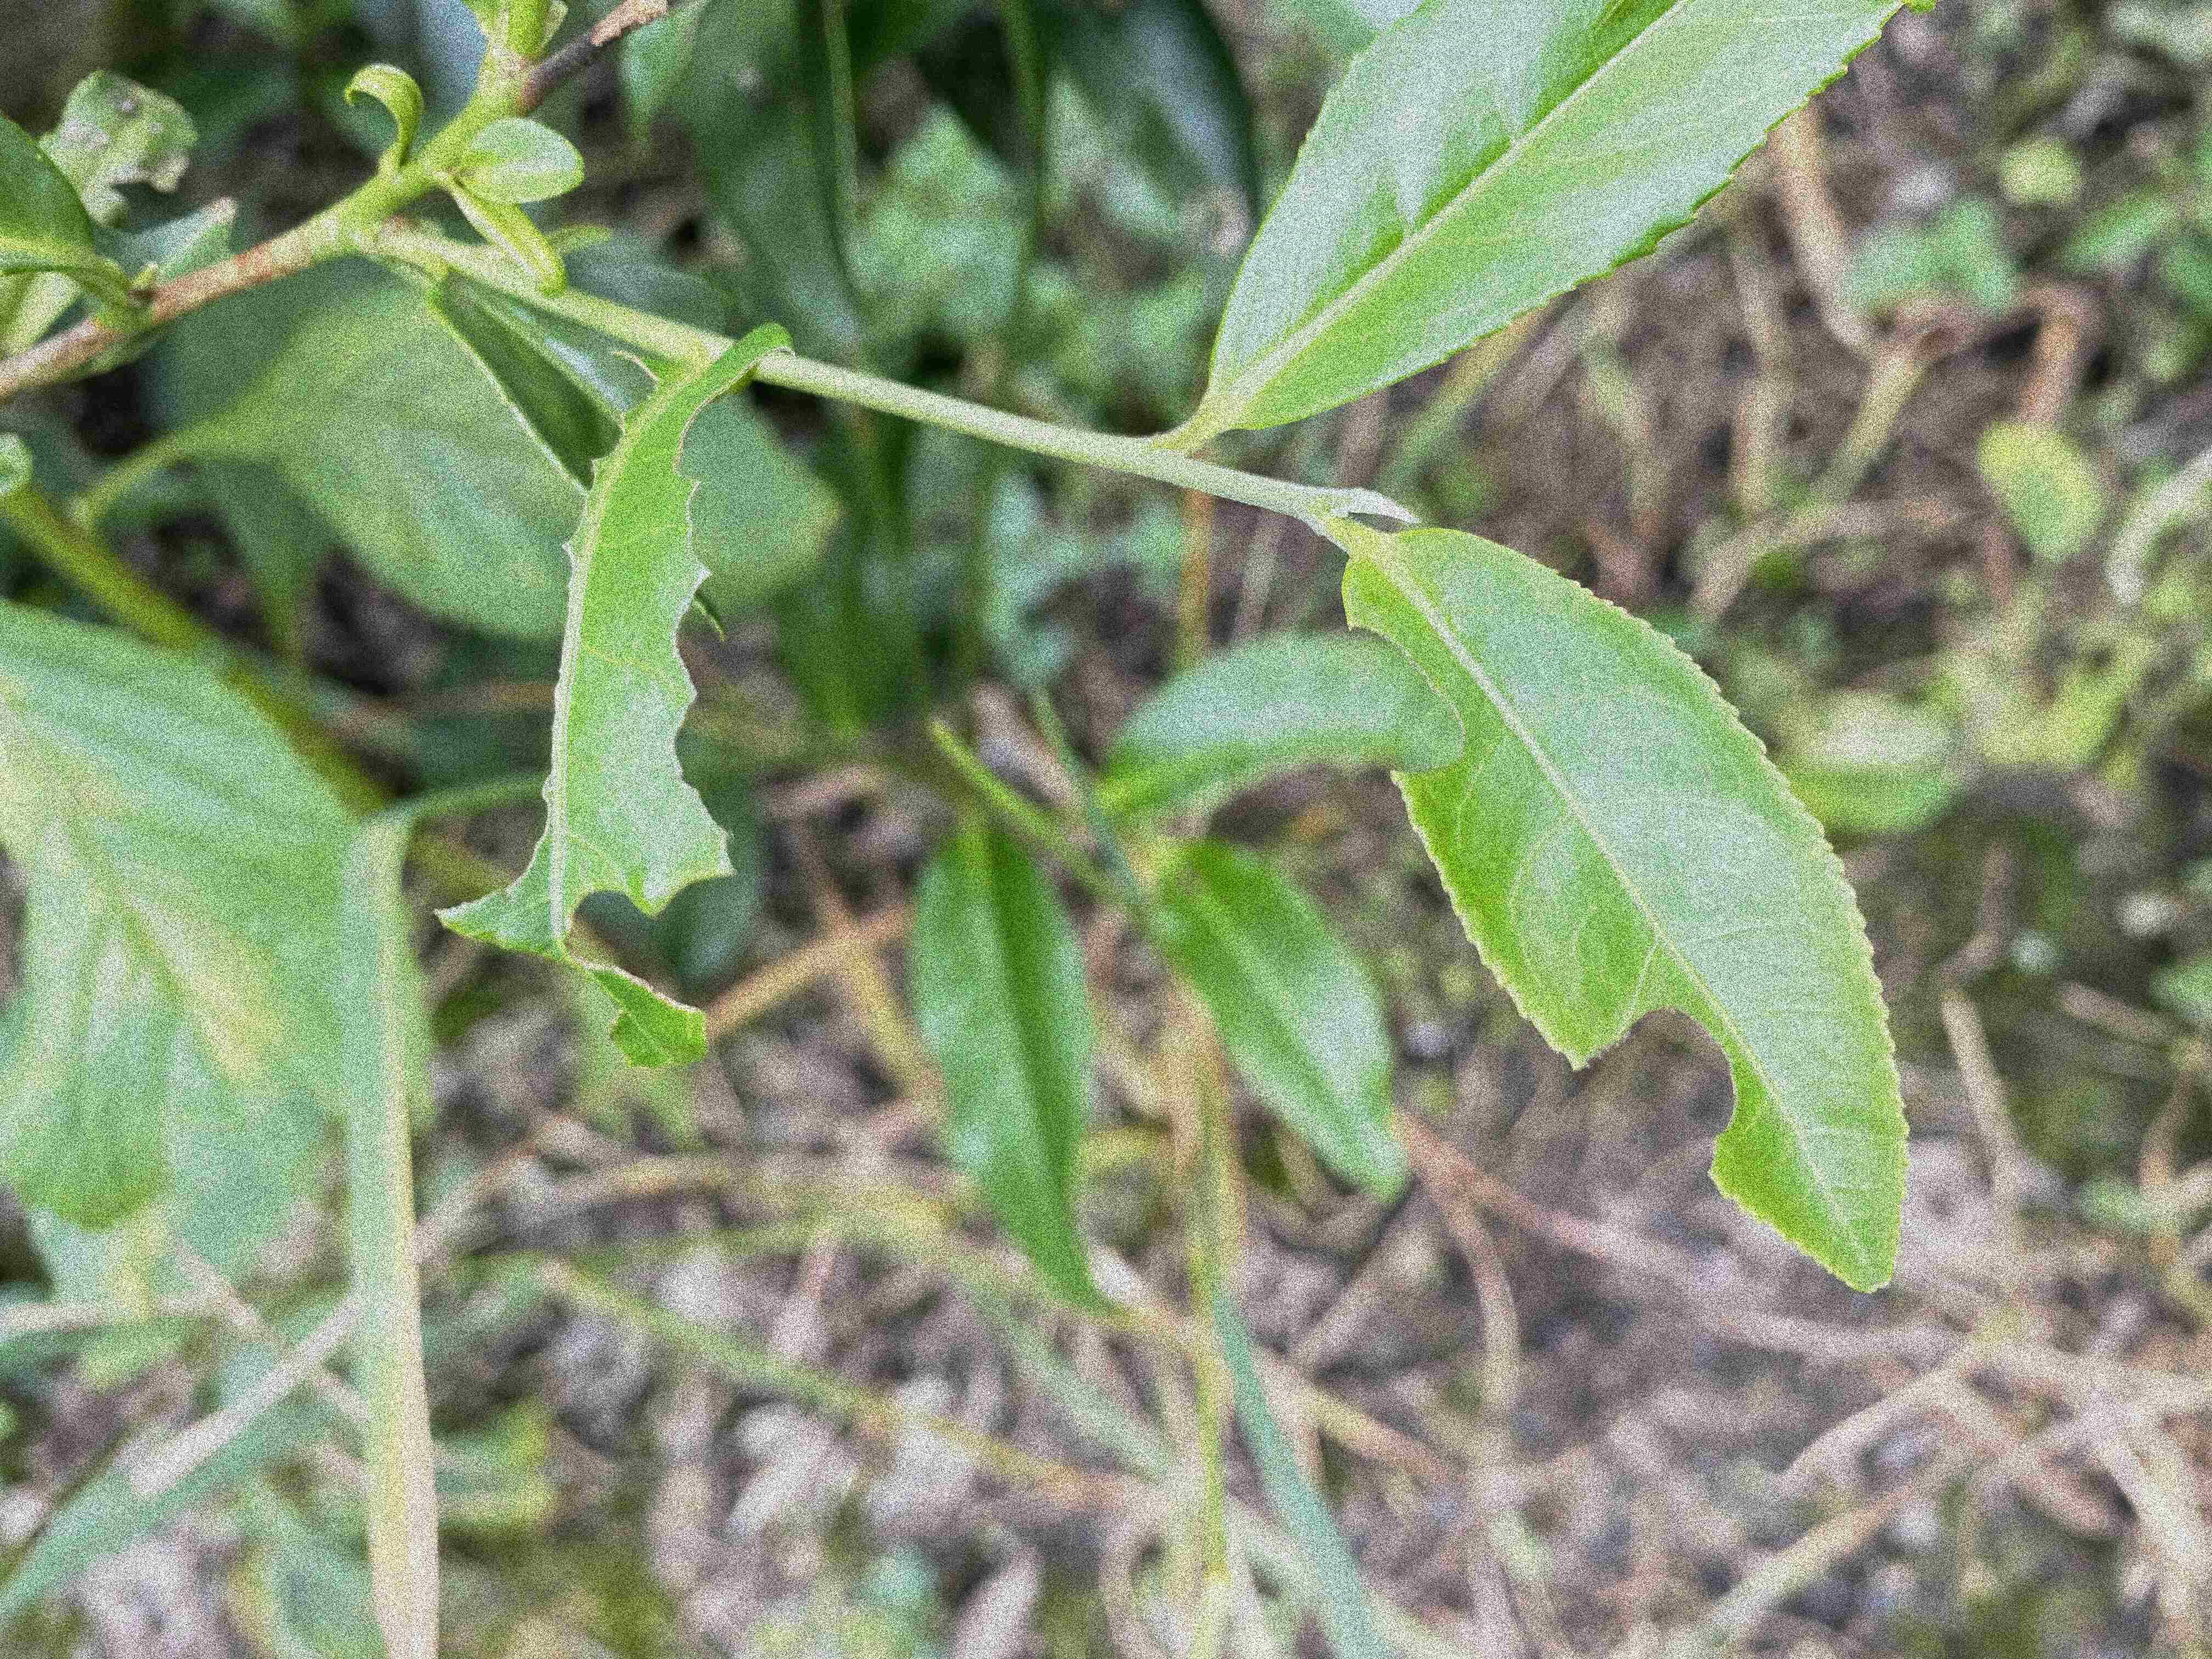chihuo_high: (1339, 523, 1912, 1297), (427, 321, 794, 1073)
healthy: (1205, 0, 1907, 434)
